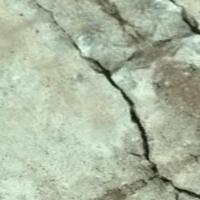crack: (29, 0, 199, 199)
